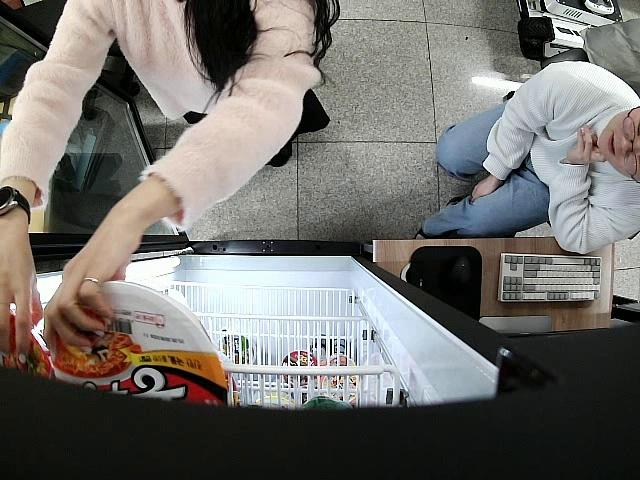00_hand: (44, 208, 142, 363), (0, 231, 45, 365), (567, 123, 603, 164)
10_wangTtukkeong: (45, 280, 228, 411), (1, 313, 53, 380)
